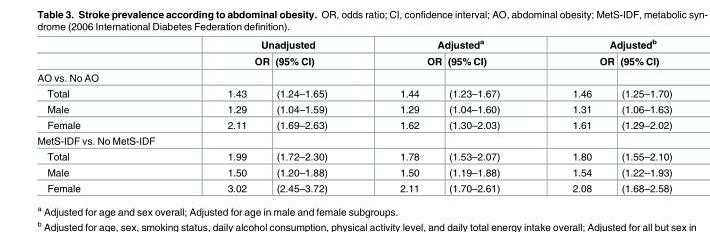table: (36, 36, 671, 193)
table column: (36, 36, 190, 193), (271, 36, 362, 193), (444, 36, 535, 193), (362, 36, 444, 193), (190, 36, 271, 193), (535, 36, 616, 193), (616, 36, 671, 193)
table column header: (36, 36, 671, 68)
table projected row header: (36, 68, 671, 85), (36, 132, 671, 148)
table row: (36, 68, 671, 85), (36, 36, 671, 52), (36, 52, 671, 68), (36, 100, 671, 116), (36, 116, 671, 132), (36, 132, 671, 148), (36, 163, 671, 179), (36, 85, 671, 100), (36, 148, 671, 163), (36, 179, 671, 193)
table spanning cell: (362, 36, 535, 52), (190, 36, 362, 52), (535, 36, 671, 52)
